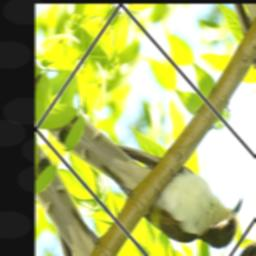Cuckoo: (43, 40, 253, 256)
